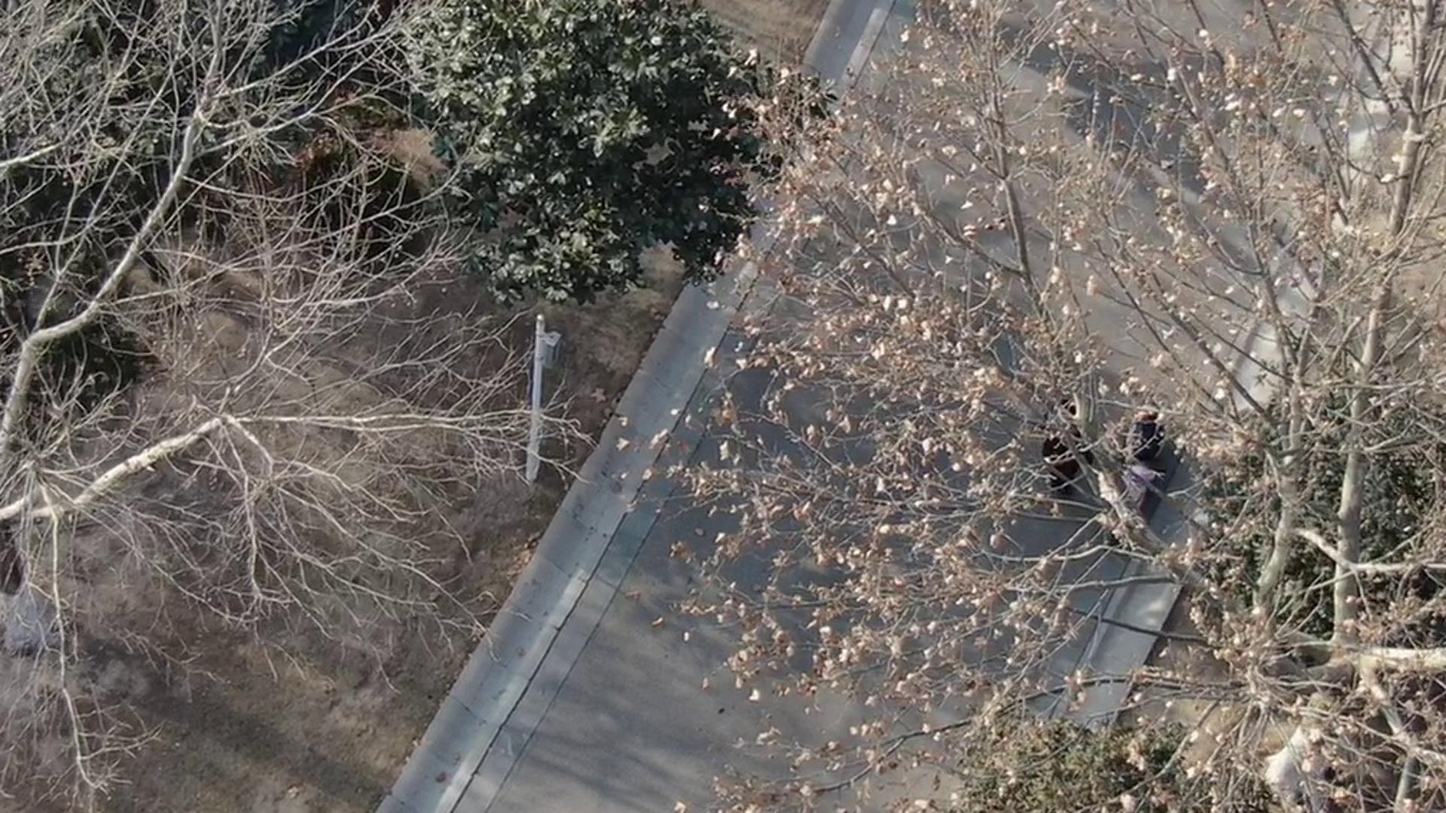human: (1047, 382, 1101, 495), (1134, 362, 1187, 448)
